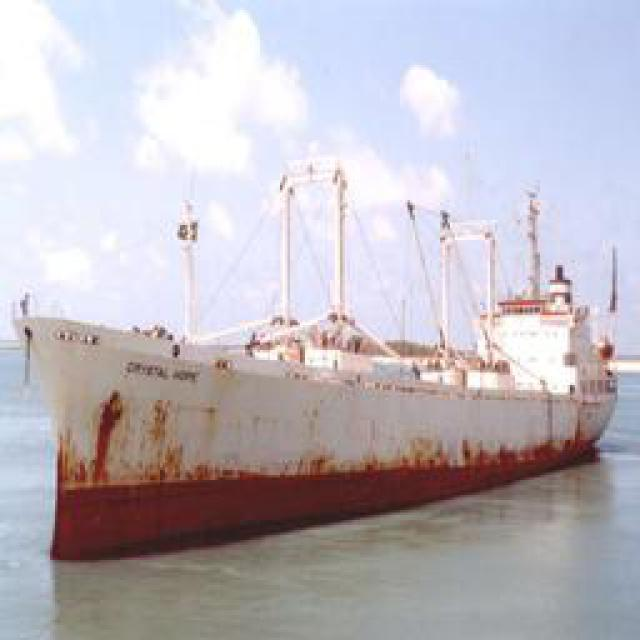Ship: (27, 157, 620, 545)
